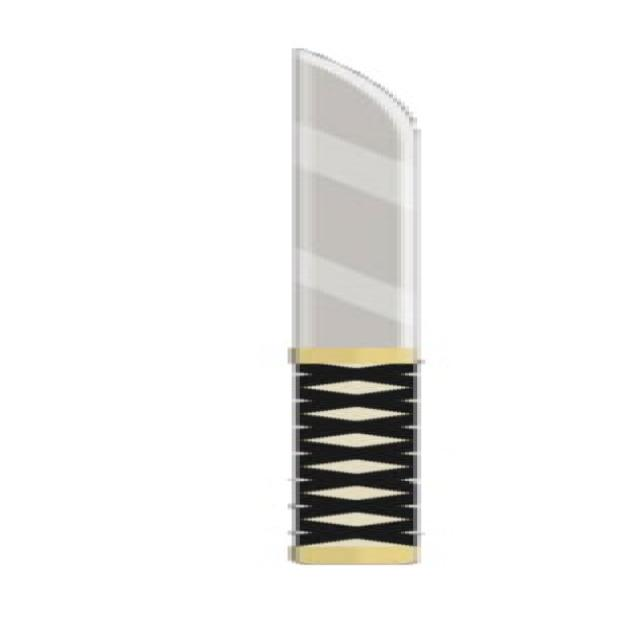knife: (261, 43, 504, 569)
